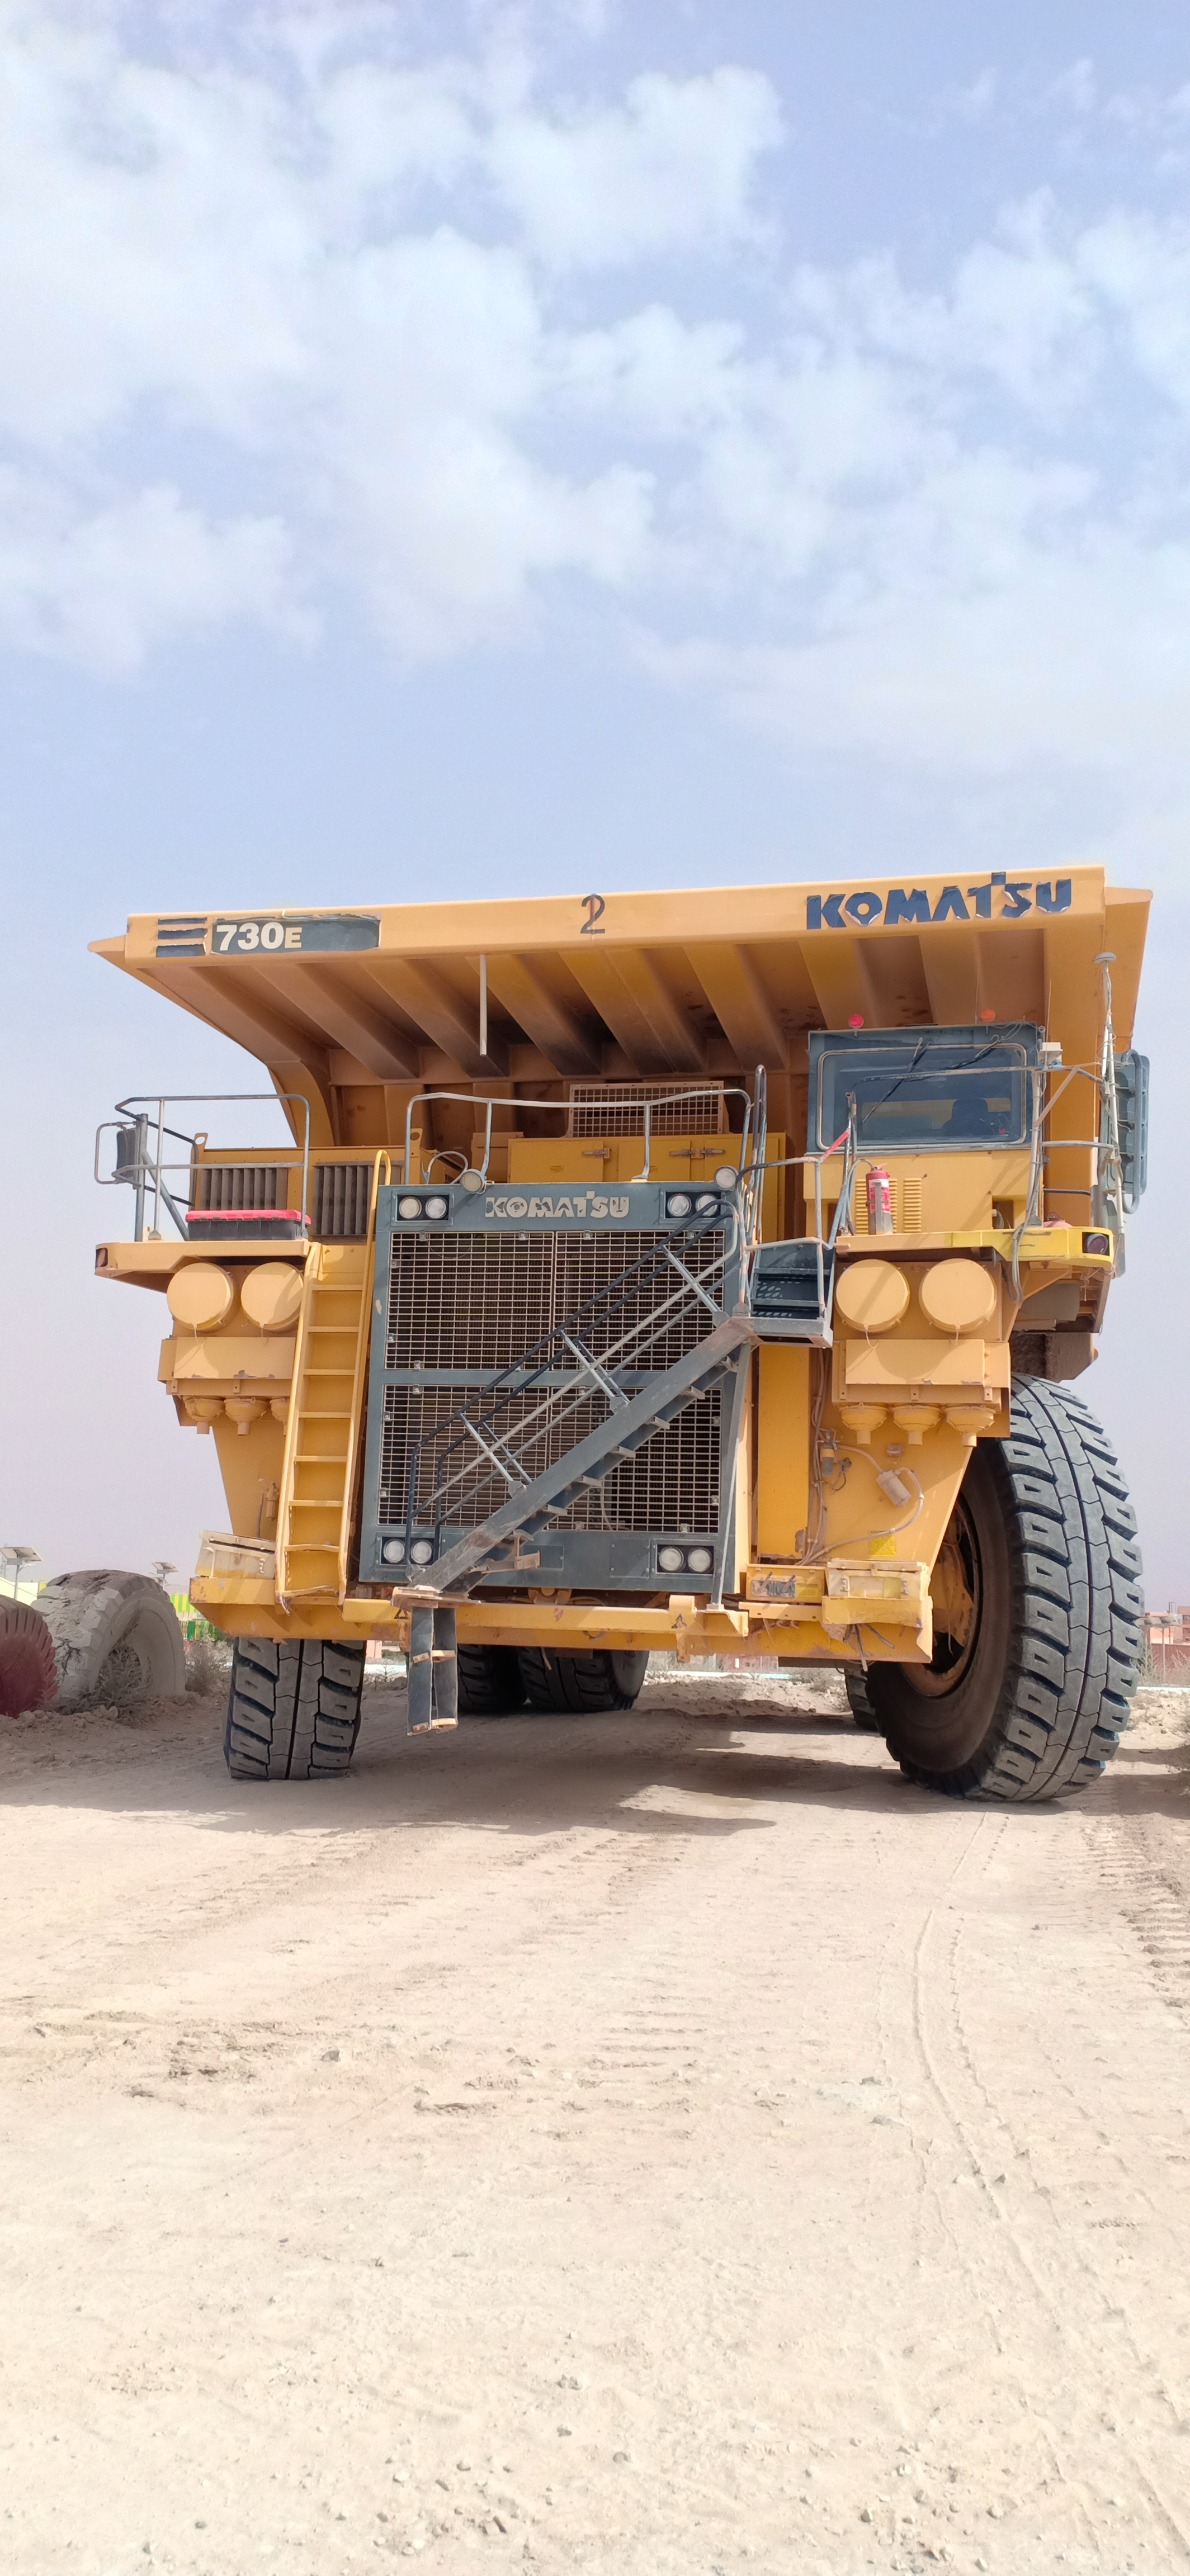camion: (46, 844, 1190, 1812)
